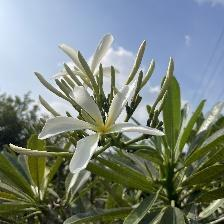champaka: (45, 83, 166, 179), (53, 36, 122, 90)
